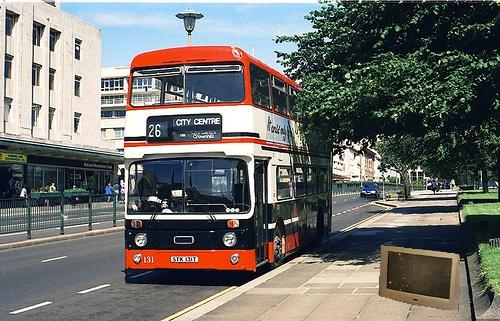tampered: (379, 246, 460, 310)
